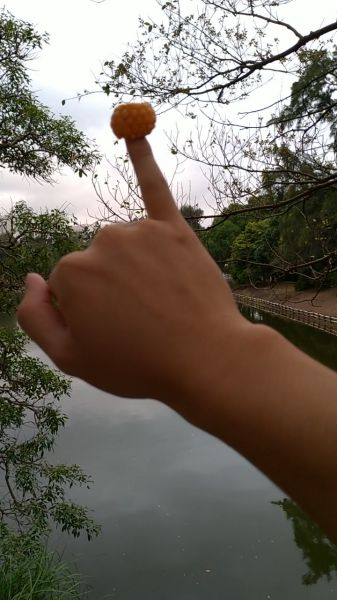eggs: (109, 104, 157, 138)
